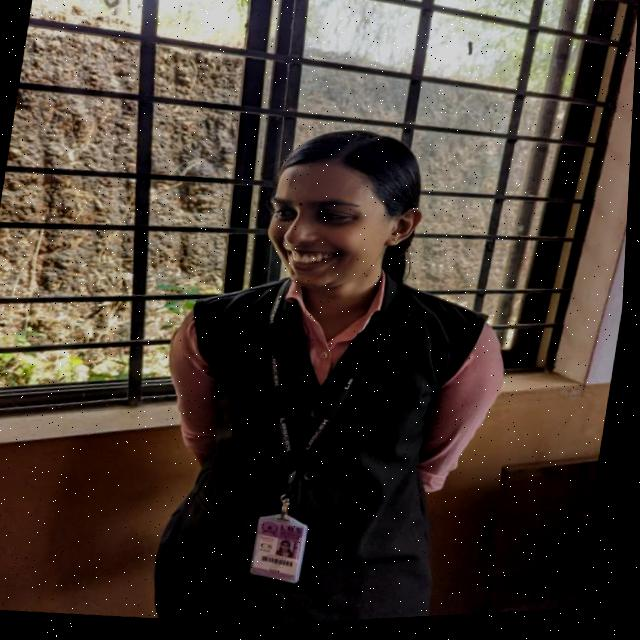id_card: (213, 277, 392, 602)
